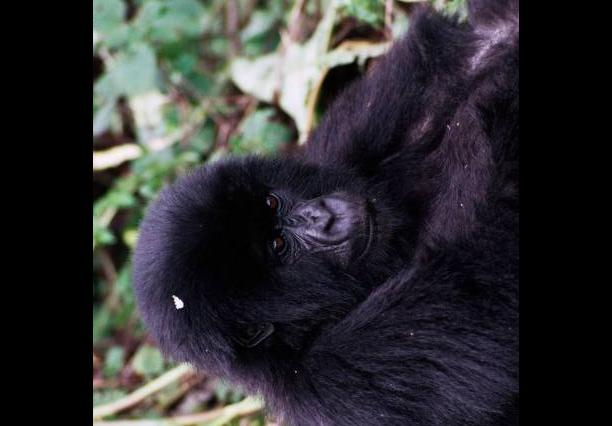goriile_montagne: (108, 15, 507, 426)
